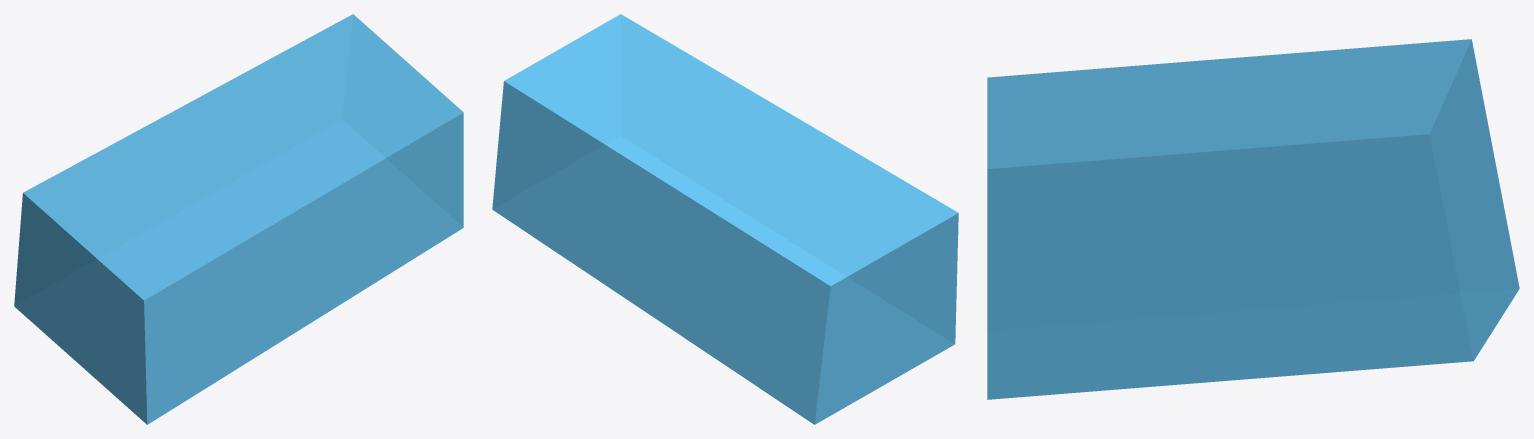
Rendered from Event_421115418_HErechit_6.fbx.
The picture shows the model from 3 angles, left to right: view 1: azimuth 30°, elevation 25°; view 2: azimuth 150°, elevation 25°; view 3: azimuth 270°, elevation 25°; orthographic projection. The views are drawn at different scales.
Parts seen in each view (by area): view 1: Model; view 2: Model; view 3: Model.
Part boxes in pixels (x1,y1,x2,y2): Model: (14,14,463,424); Model: (492,14,958,424); Model: (987,39,1519,399).
Bounding box in the file's own units: 0.9709 × 0.7336 × 0.7002.
